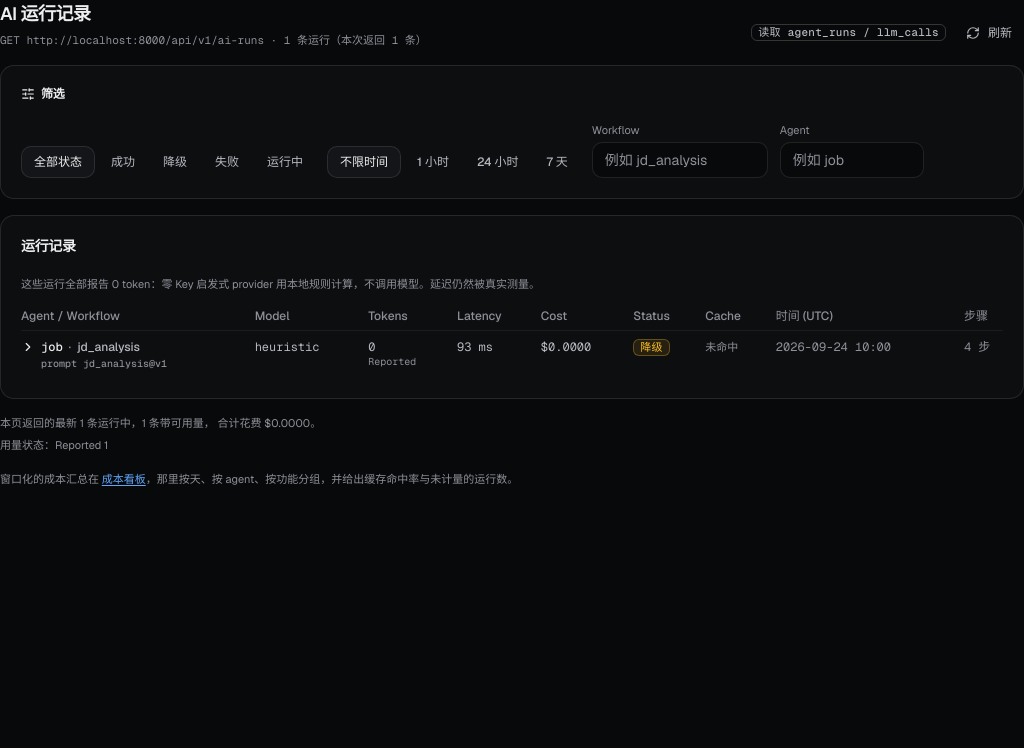
Test: the AI runs page › opens the row and fetches that run’s step chain, not the list
Check: the heading "运行记录" is shown, box [21,237,76,255]
Step 1. Click the button "job · jd_analysis" → x=80, y=347, box [21,339,140,355]
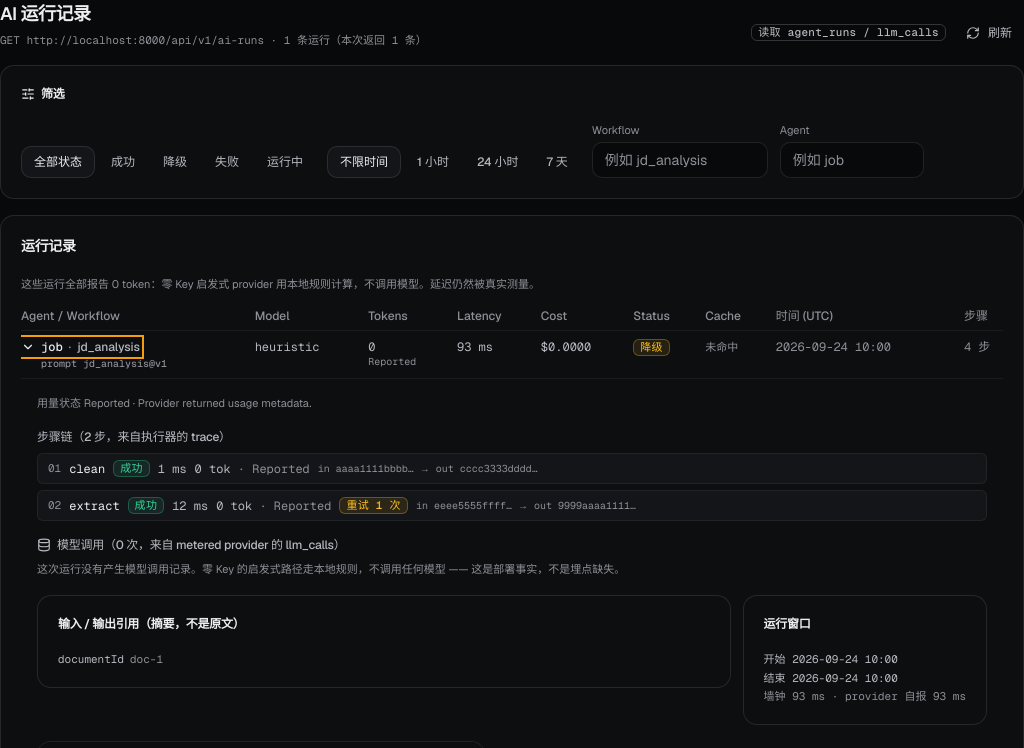
Check: the text "extract" is shown, box [69,498,120,514]
Check: the text "重试 1 次" is shown, box [339,497,408,514]
Check: the button "job · jd_analysis" is expanded, box [21,339,140,355]
